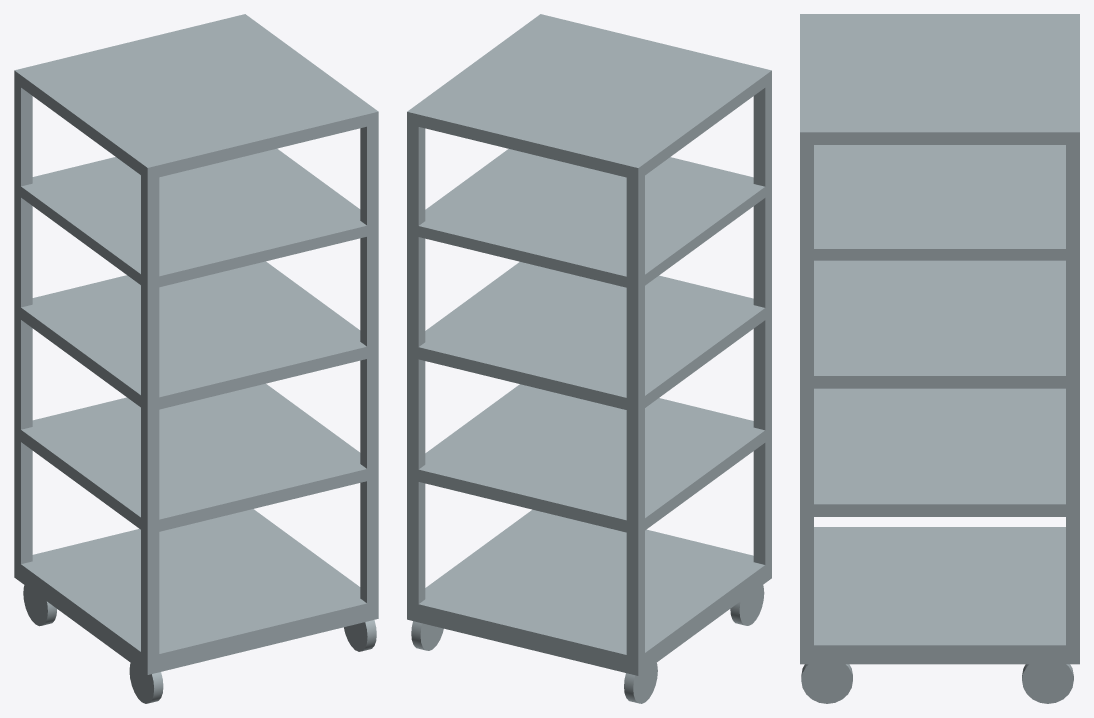
The model's file is Large_Wheel_Thing.fbx.
3 renders of one model, left to right at view 1: azimuth 30°, elevation 25°; view 2: azimuth 150°, elevation 25°; view 3: azimuth 270°, elevation 25°, orthographic. The views are drawn at different scales.
Parts seen in each view (by area): view 1: Tall_Cart; view 2: Tall_Cart; view 3: Tall_Cart.
Boxes of the visible parts, x1=… form: Tall_Cart: x1=14, y1=14, x2=378, y2=703; Tall_Cart: x1=407, y1=14, x2=771, y2=703; Tall_Cart: x1=800, y1=14, x2=1079, y2=703.
Bounding box in the file's own units: 0.7357 × 1.66 × 0.7357.
Materials: 1 (1 with a texture image).
